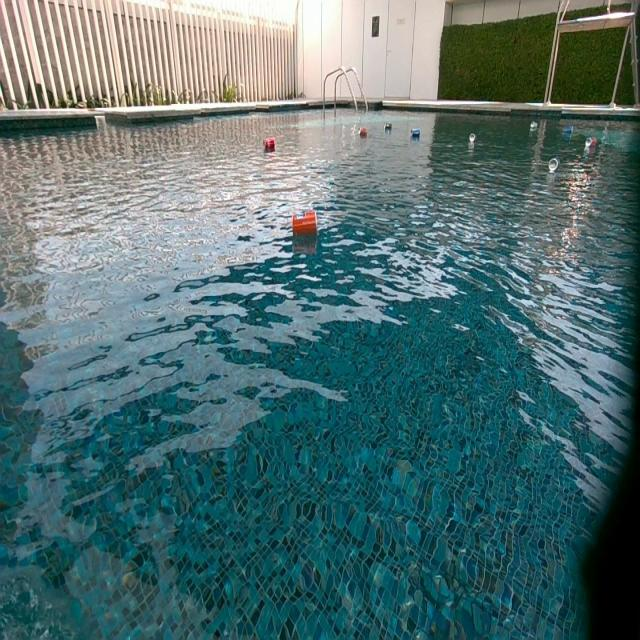Cans: (294, 210, 318, 237), (265, 138, 277, 152), (550, 159, 560, 173), (586, 138, 598, 149), (562, 126, 573, 137), (528, 123, 538, 134), (358, 127, 367, 139), (411, 130, 420, 140), (529, 120, 538, 130), (468, 133, 476, 144), (385, 121, 393, 130), (471, 134, 478, 143)
